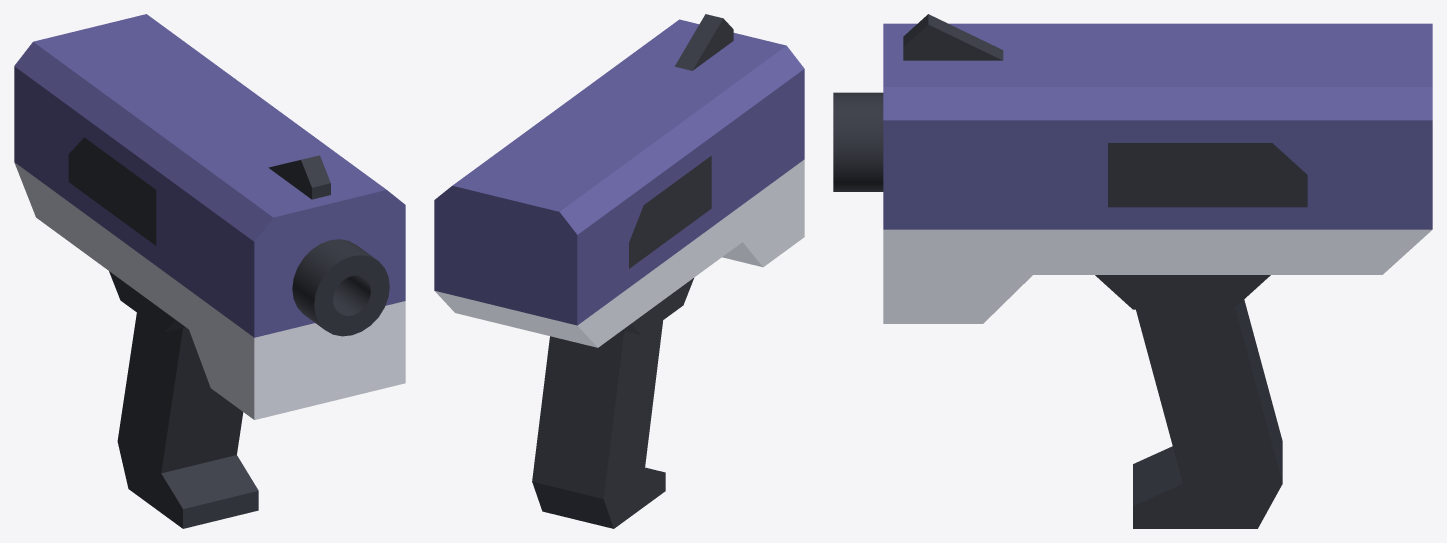
File: Handgun.fbx
3 views of the same model, side by side, from view 1: azimuth 30°, elevation 25°; view 2: azimuth 150°, elevation 25°; view 3: azimuth 270°, elevation 25° (orthographic). The views are drawn at different scales.
Parts seen in each view (by area): view 1: mergedBlocks; view 2: mergedBlocks; view 3: mergedBlocks.
Part boxes in pixels (left/top/right/bottom): mergedBlocks: left=14, top=14, right=405, bottom=528; mergedBlocks: left=434, top=14, right=804, bottom=528; mergedBlocks: left=833, top=14, right=1432, bottom=528.
Size of the model in its own units: 2.4 by 6.48 by 7.2.
